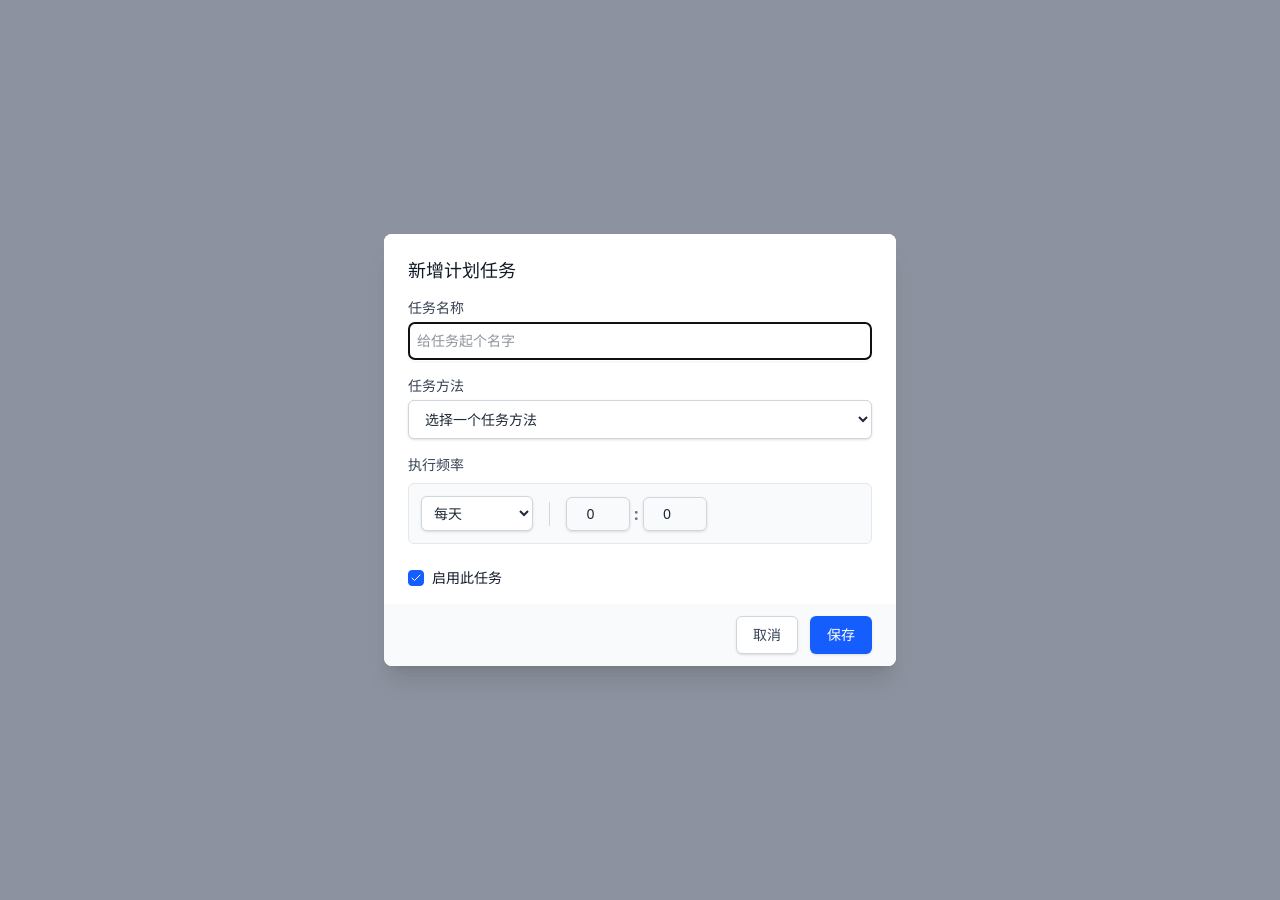
TaskEditModal (Pydantic JSON Schema editor) › renders controls from schema types and hides the block for no-arg tasks
The image size is (1280, 900).
Select "novel_fetch" in the dropdown below "任务方法" at (640,420), box top-left (408, 400), bottom-right (872, 439)
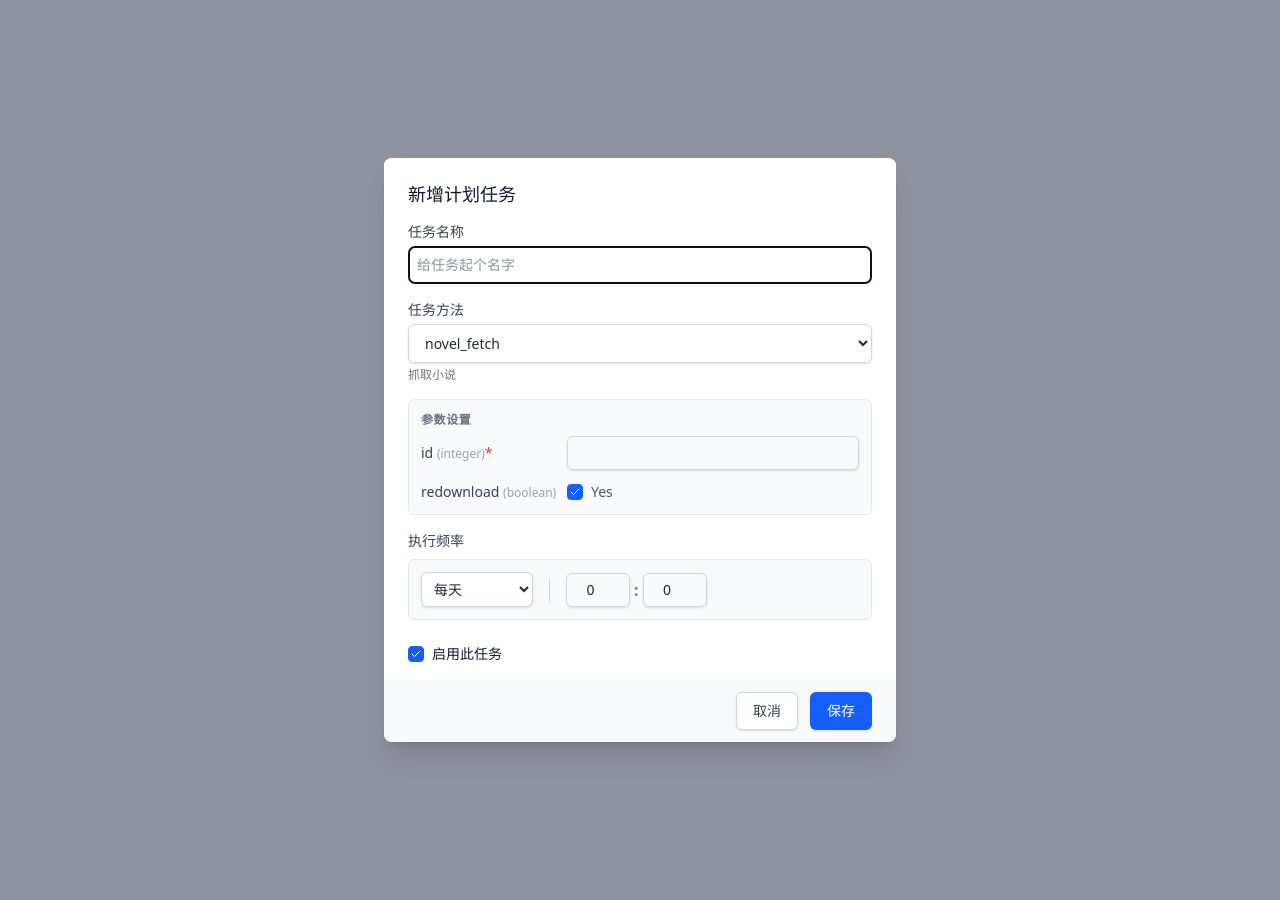
Check: the text "(integer)" is shown, box top-left (437, 445), bottom-right (485, 462)
Check: the text "(boolean)" is shown, box top-left (503, 484), bottom-right (556, 501)
Check: the number field next to "(integer)" is shown, box top-left (567, 436), bottom-right (859, 470)
Note: Array without a schema default starts as editable JSON text.
Select "failed_retry" in the dropdown below "任务方法" at (640,344), box top-left (408, 324), bottom-right (872, 363)
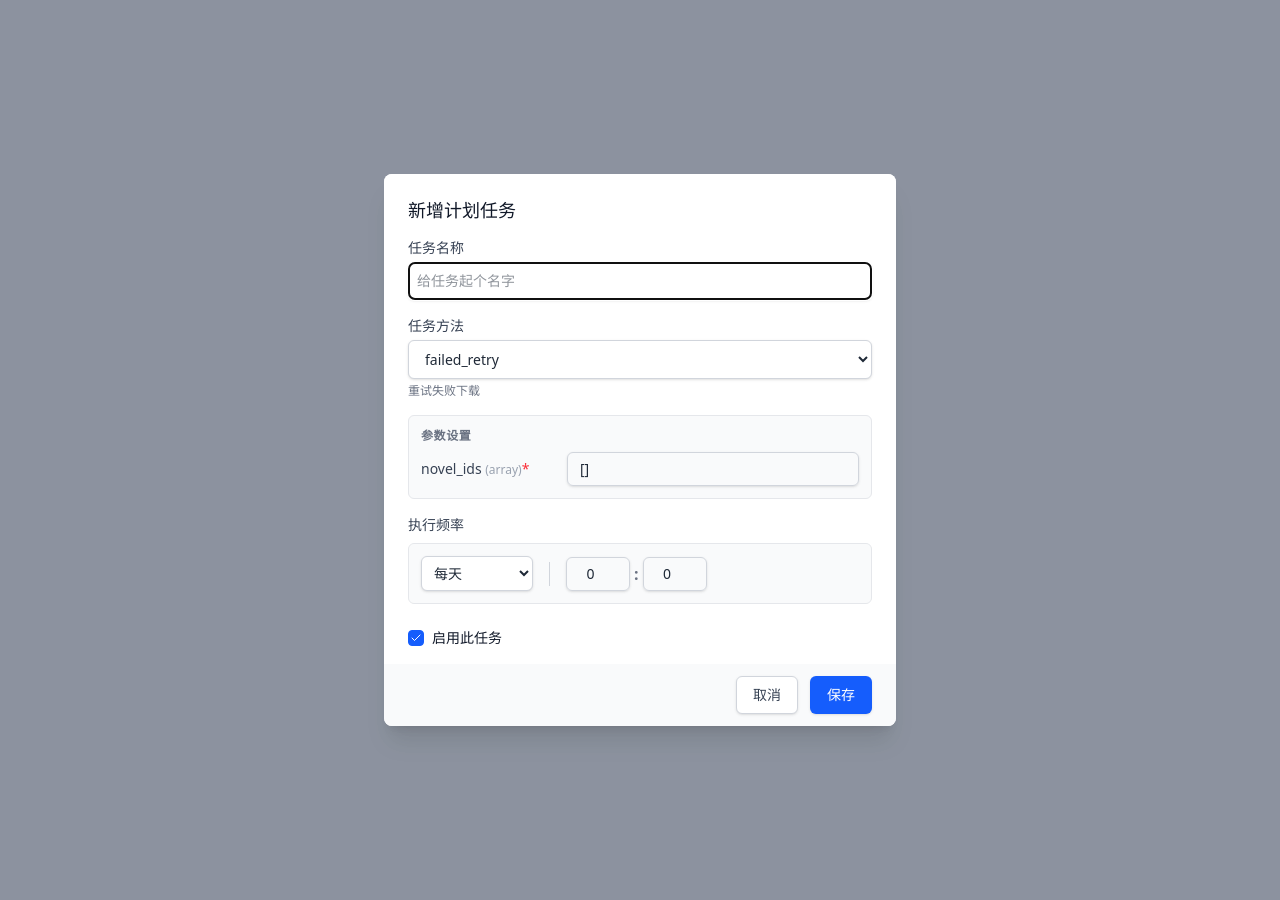
Check: the 2nd field holds "[]", box top-left (567, 452), bottom-right (859, 486)
Select "rebuild_fts" in the dropdown below "任务方法" at (640,360), box top-left (408, 340), bottom-right (872, 379)
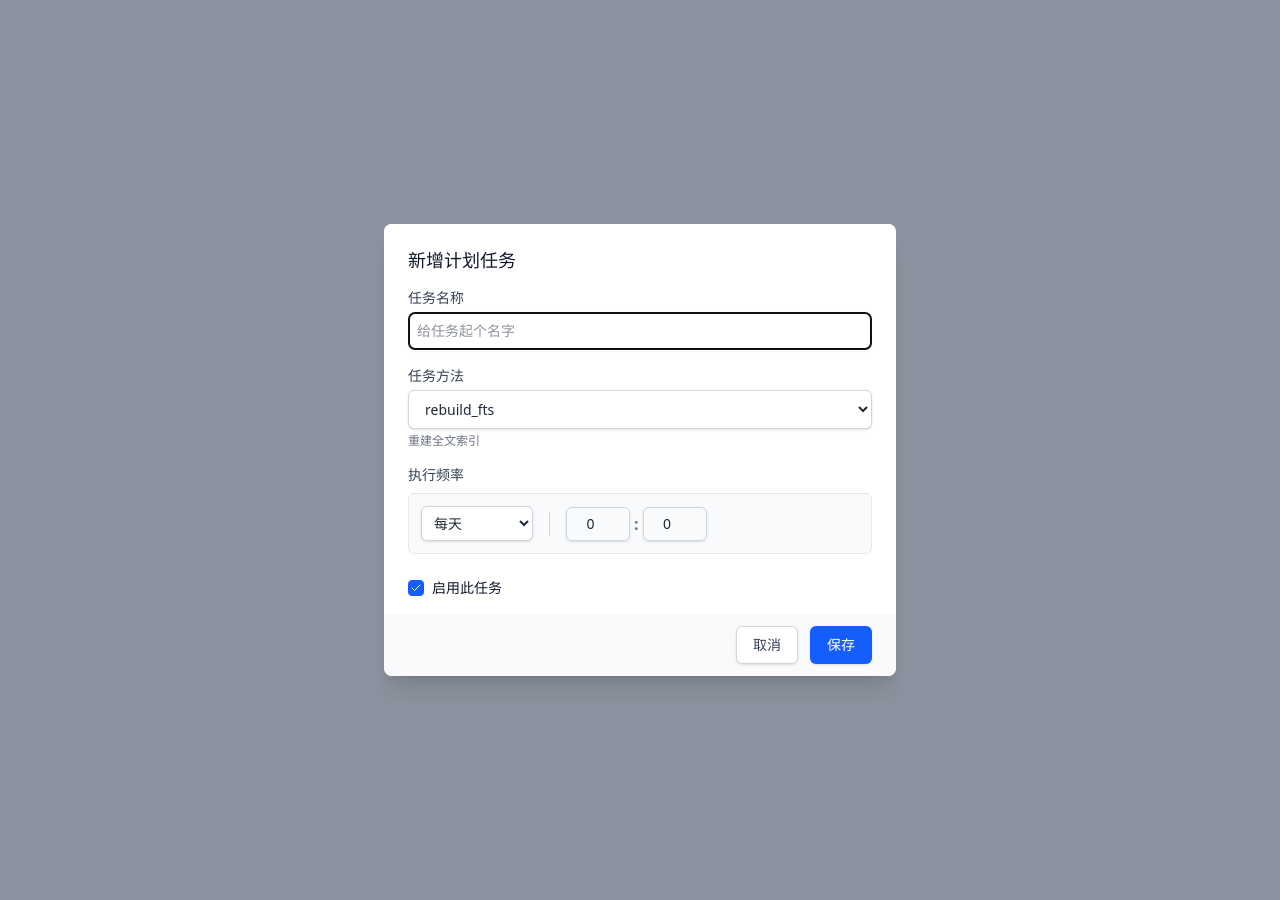
Check: the text "参数设置" is gone
